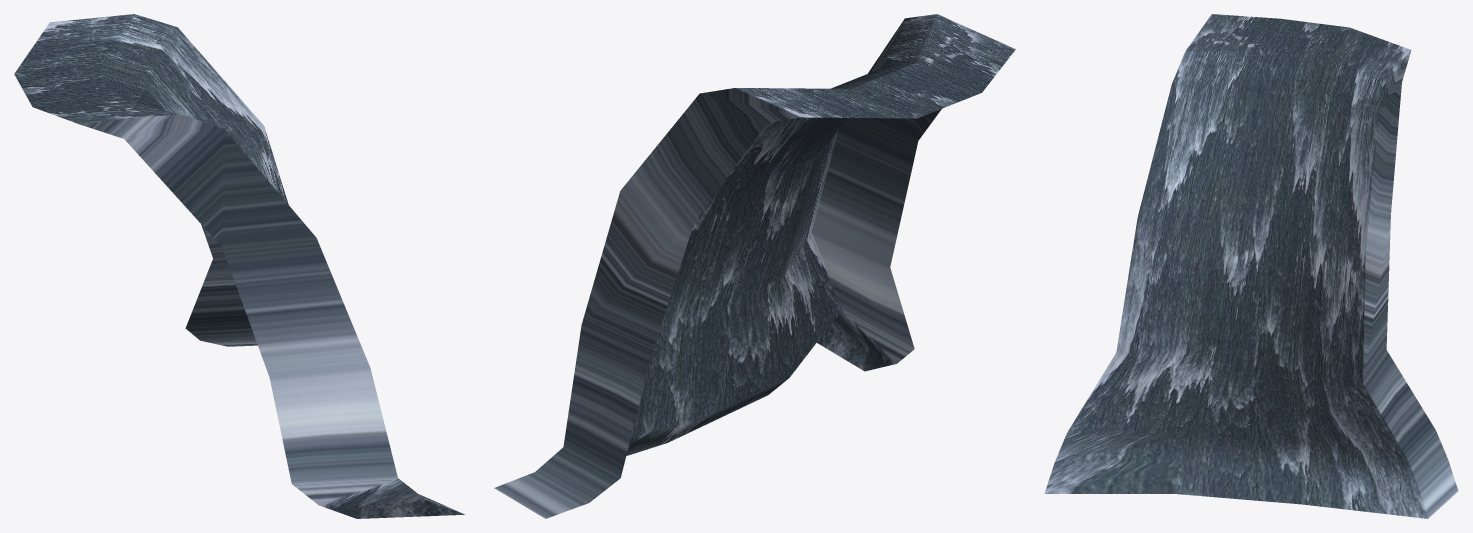
The model's file is Waterfall_Test1.fbx.
3 renders of one model, left to right at view 1: azimuth 30°, elevation 25°; view 2: azimuth 150°, elevation 25°; view 3: azimuth 270°, elevation 25°, orthographic. The views are drawn at different scales.
Visible parts, largest first — view 1: pCube9; view 2: pCube9; view 3: pCube9.
Boxes of the visible parts, <box> form: pCube9: <box>14,14,464,518</box>; pCube9: <box>494,14,1015,518</box>; pCube9: <box>1044,14,1458,518</box>.
Bounding box in the file's own units: 79.82 × 85.65 × 89.25.
1 material, 1 textured.
